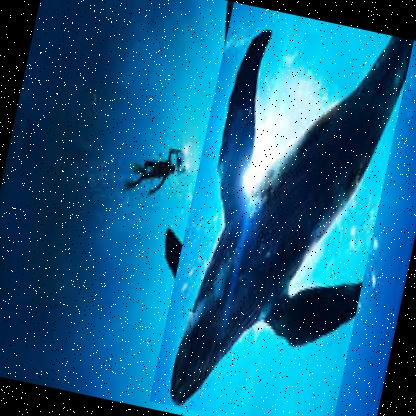blue_whale: (147, 0, 414, 415)
